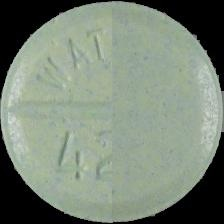50436-6810: (0, 0, 224, 224)
